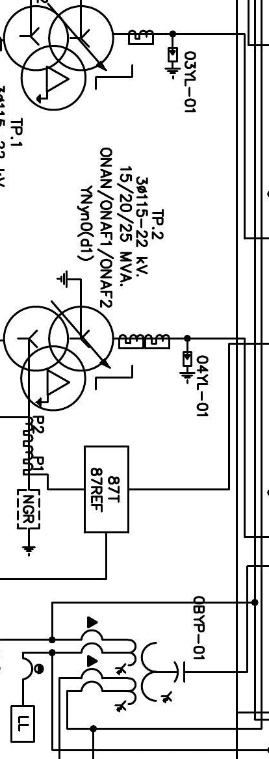11522_tx_ynyn0d1: (2, 5, 115, 112), (2, 305, 115, 412)
115_cvt_3p: (79, 615, 186, 713)
115_la: (164, 46, 181, 80), (179, 351, 196, 384)
LL: (9, 705, 36, 743)
NGR_future: (16, 488, 41, 557)
